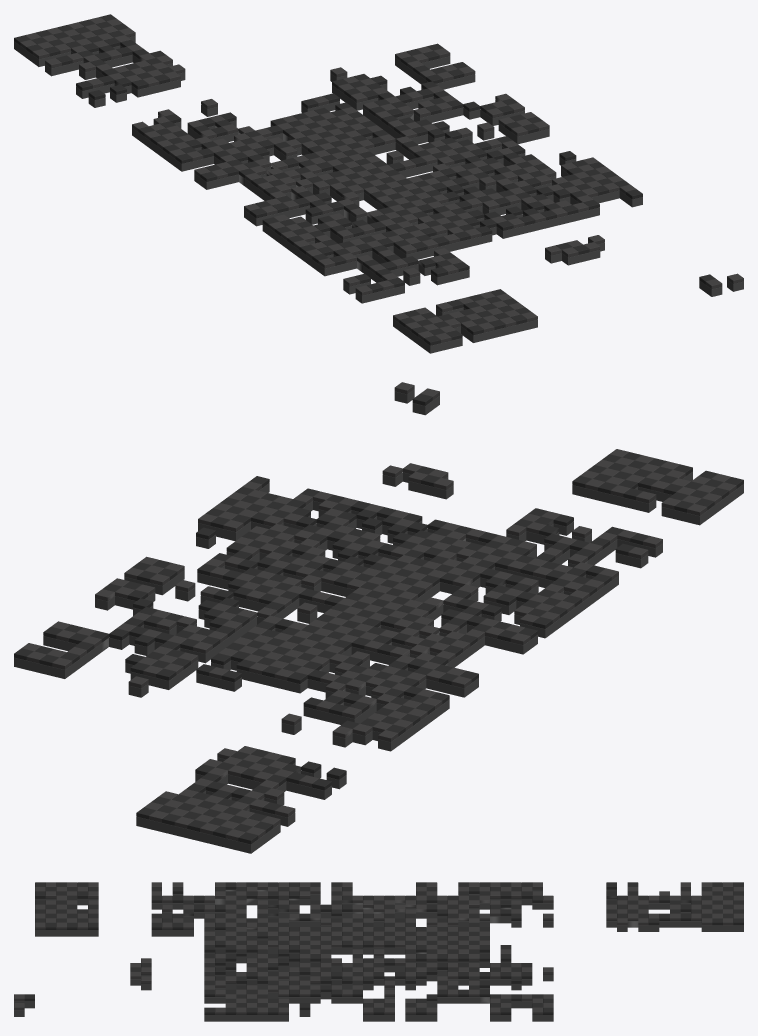
The model's file is Baked Mesh.obj.
The picture shows the model from 3 angles, top to bottom: view 1: azimuth 30°, elevation 25°; view 2: azimuth 150°, elevation 25°; view 3: azimuth 270°, elevation 25°; orthographic projection. The views are drawn at different scales.
Visible parts, largest first — view 1: Baked Mesh; view 2: Baked Mesh; view 3: Baked Mesh.
Boxes of the visible parts, x1,y1,x2,y2 form: Baked Mesh: [14, 14, 743, 353]; Baked Mesh: [14, 382, 743, 853]; Baked Mesh: [14, 882, 743, 1021].
Size of the model in its own units: 58 by 2 by 138.
1 material, 1 textured.
